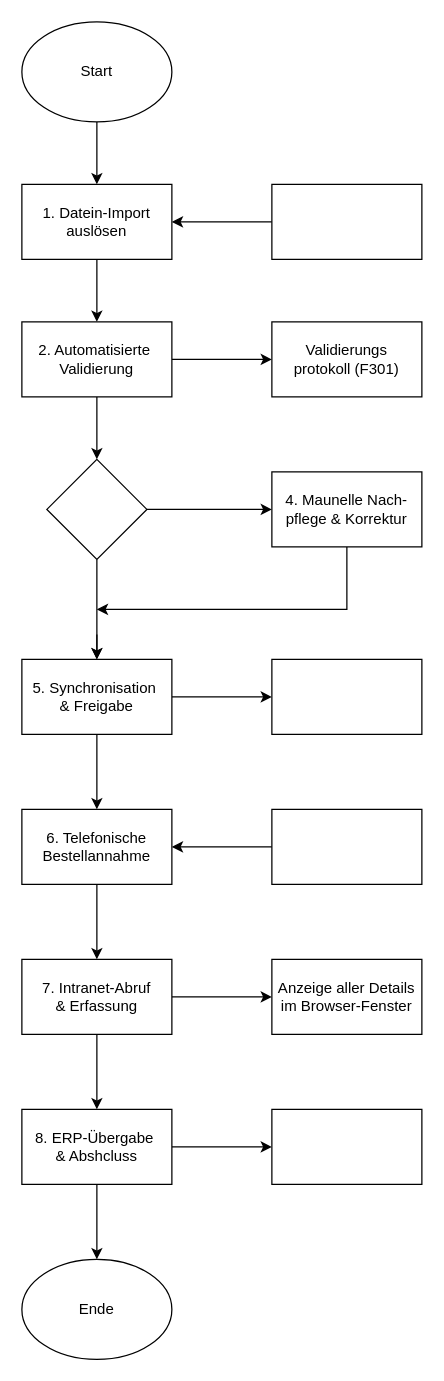
Some shapes in this 444 by 1381 pixel diagram are drawn without their labels. Each missing label, with the centre of its shape:
3. Daten i.O.?: the point at 96,508
API / CSV-Schnittstelle Der Lieferanten: the point at 346,221
Genereirter Auftrag im ERP-System: the point at 346,1146
Intranet-Katalog Live (Systemupdate): the point at 346,696
Trigger : Kunde ruft an (Spital / Facharzt): the point at 346,846
